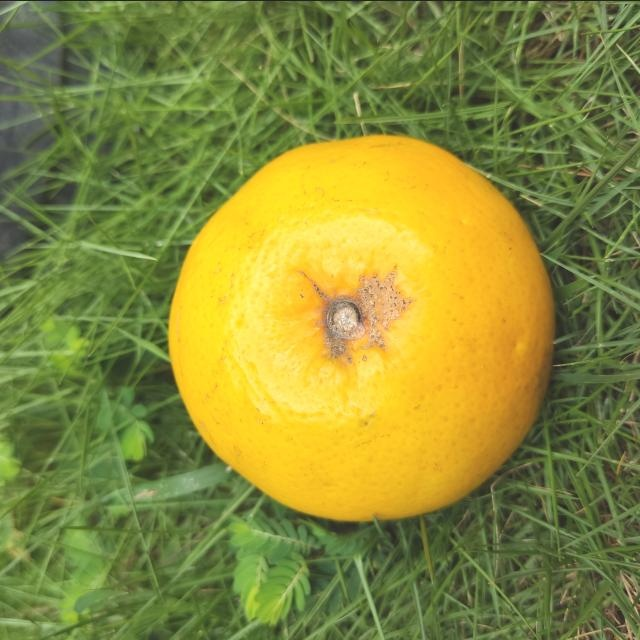agrume: (166, 131, 554, 521)
